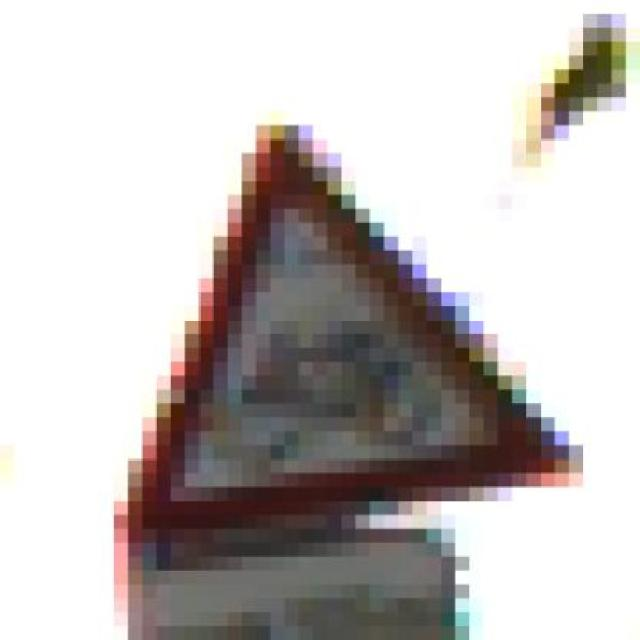CYCLE ROUTE AHEAD WARNING: (86, 111, 612, 543)
